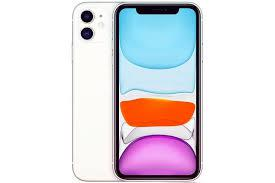Smartphone: (115, 4, 206, 179), (73, 2, 138, 180)
